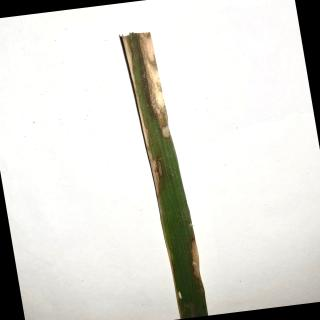Hawar-Daun: (116, 35, 164, 200), (141, 30, 172, 138), (190, 234, 203, 282)
